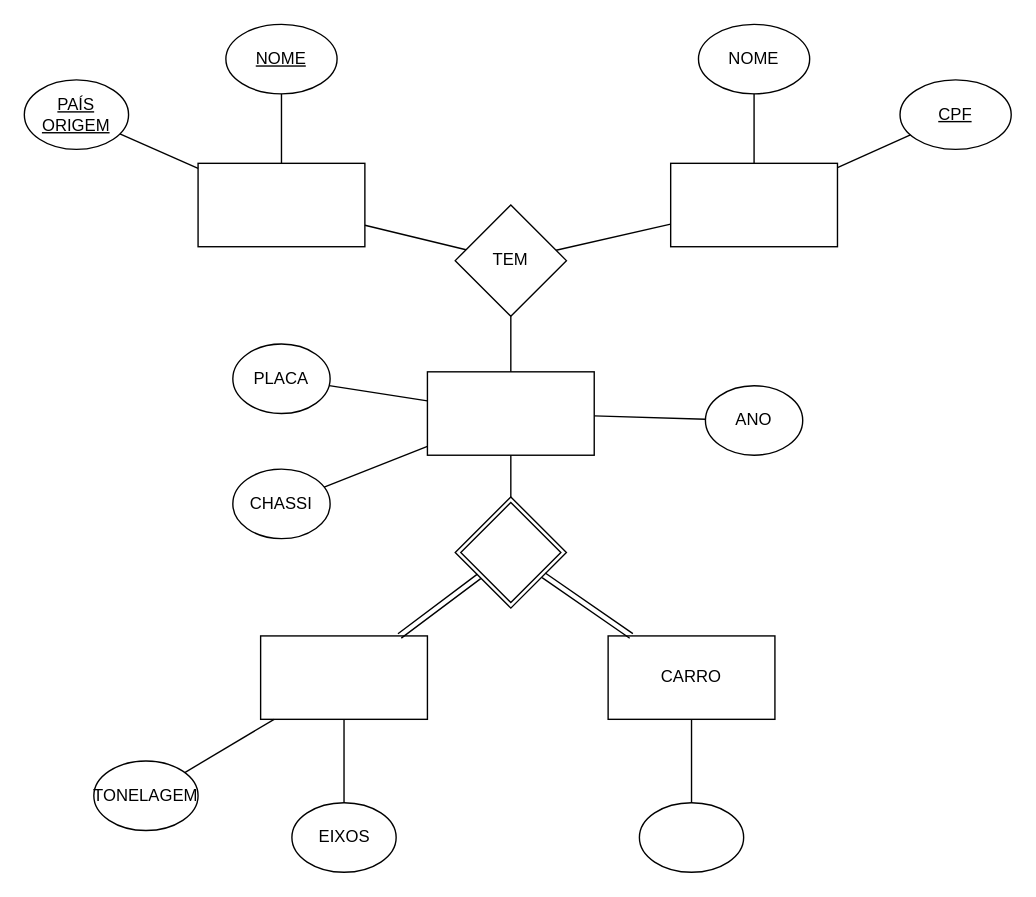
The diagram is 1036 pixels wide and 897 high, and some of its shapes have lost their labels. Here are the shapes that lost their labels. From the top down, the centre of each, then its label:
At pixel 281 204: "FABRICANTE".
At pixel 753 204: "PROPRIETÁRIO".
At pixel 510 412: "VEÍCULO".
At pixel 510 552: "ISA".
At pixel 343 677: "CAMINHÃO".
At pixel 691 836: "COR".
